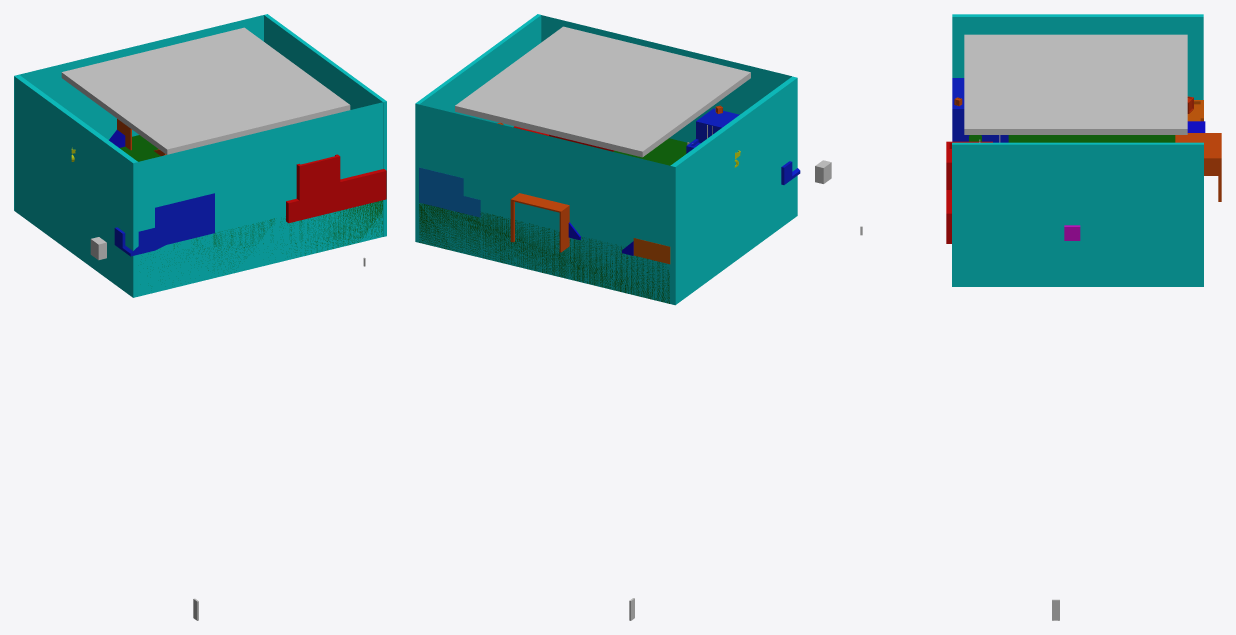
File: map.obj
The picture shows the model from 3 angles, left to right: view 1: azimuth 30°, elevation 25°; view 2: azimuth 150°, elevation 25°; view 3: azimuth 270°, elevation 25°; orthographic projection. The views are drawn at different scales.
Parts seen in each view (by area): view 1: Куб.007, spawnzone_Куб.008, pb_Mesh67604, pb_Mesh101160.001; view 2: Куб.007, spawnzone_Куб.008, pb_Mesh103212, pb_Mesh86612, pb_Mesh101160.001, pb_Mesh65544; view 3: Куб.007, spawnzone_Куб.008, pb_Mesh86612, pb_Mesh101160.001, pb_Mesh67604.
Boxes of the visible parts, x1=… form: Куб.007: x1=14, y1=14, x2=386, y2=297; spawnzone_Куб.008: x1=61, y1=27, x2=350, y2=154; pb_Mesh67604: x1=286, y1=154, x2=386, y2=223; pb_Mesh101160.001: x1=114, y1=193, x2=214, y2=256; Куб.007: x1=415, y1=14, x2=797, y2=305; spawnzone_Куб.008: x1=455, y1=26, x2=750, y2=157; pb_Mesh103212: x1=419, y1=167, x2=480, y2=217; pb_Mesh86612: x1=510, y1=193, x2=569, y2=252; pb_Mesh101160.001: x1=686, y1=108, x2=800, y2=184; pb_Mesh65544: x1=633, y1=238, x2=670, y2=264; Куб.007: x1=952, y1=14, x2=1203, y2=286; spawnzone_Куб.008: x1=964, y1=34, x2=1187, y2=134; pb_Mesh86612: x1=1175, y1=133, x2=1221, y2=201; pb_Mesh101160.001: x1=952, y1=78, x2=1008, y2=142; pb_Mesh67604: x1=946, y1=141, x2=992, y2=243.
Size of the model in its own units: 107 by 182 by 109.
